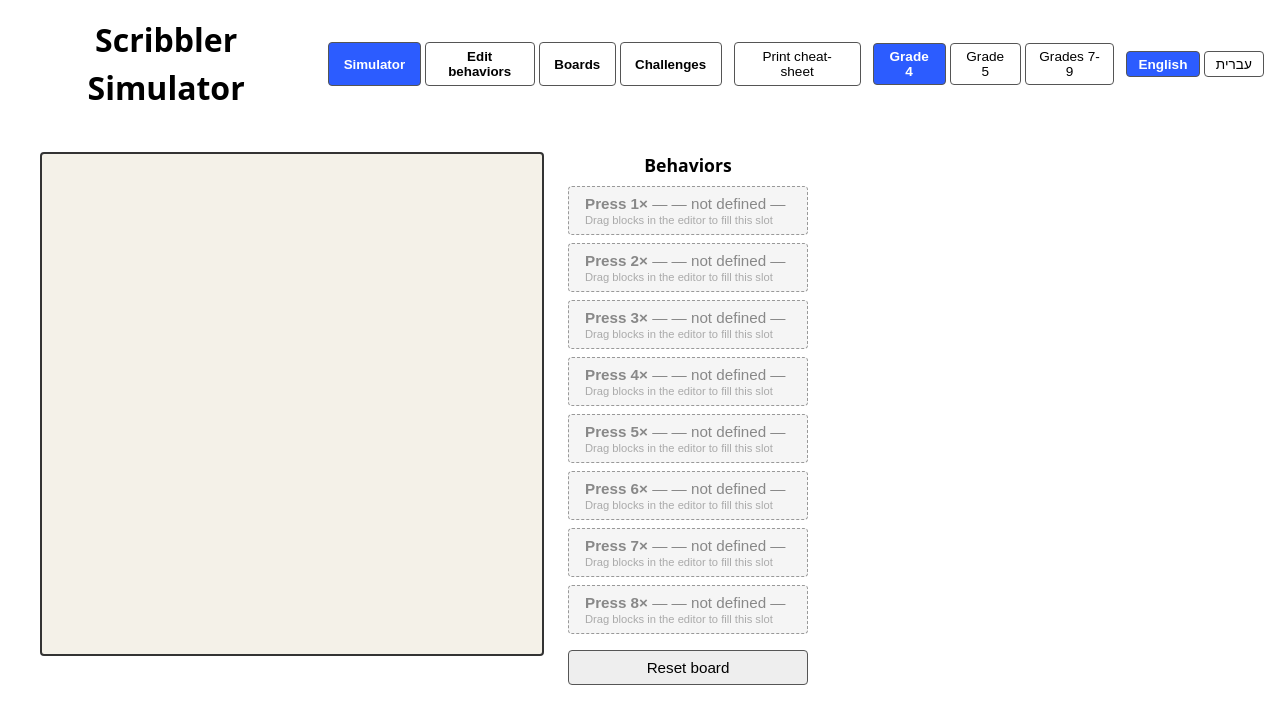
language toggle › clicking עברית flips html dir to rtl and translates the title
Expected: the heading "Scribbler Simulator" is shown, [88,18,245,109]
What coordinates should you click on to do the following:
click the button "עברית"
I would click on:
 (1234, 64)
Its box is [1204,51,1264,77].
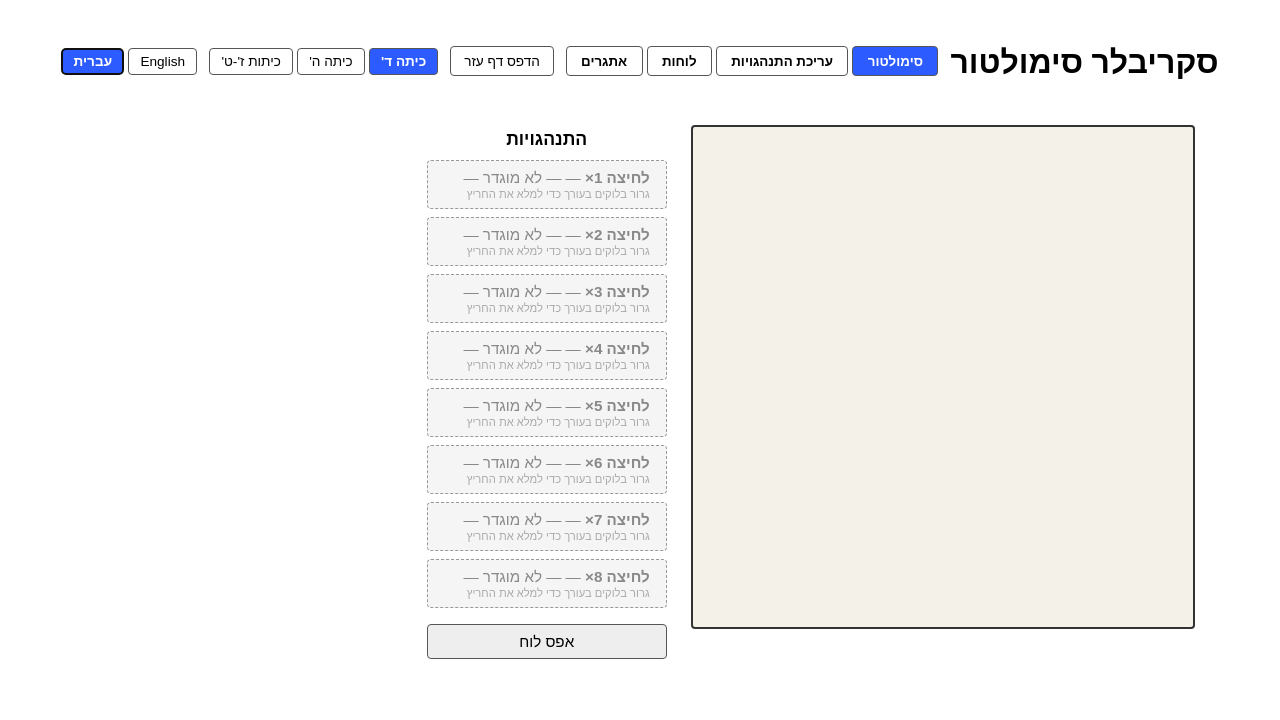
Now the heading "סקריבלר סימולטור" is shown, box [950,37,1219,85]
